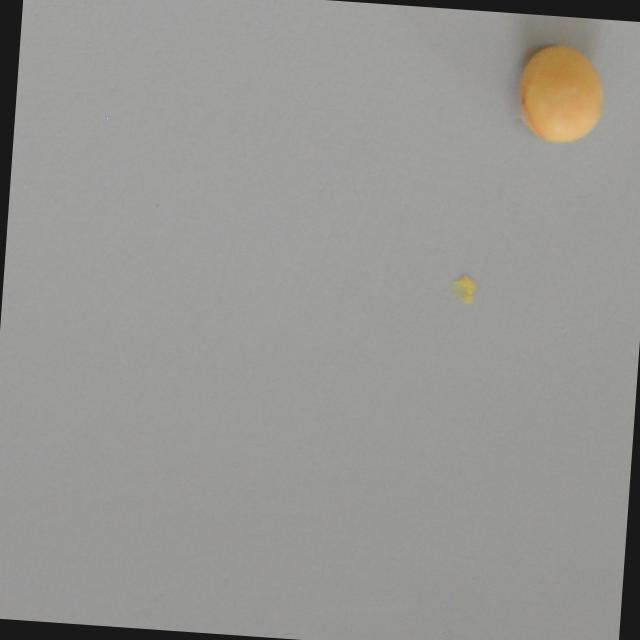cuerpos_extranos: (512, 37, 612, 142)
